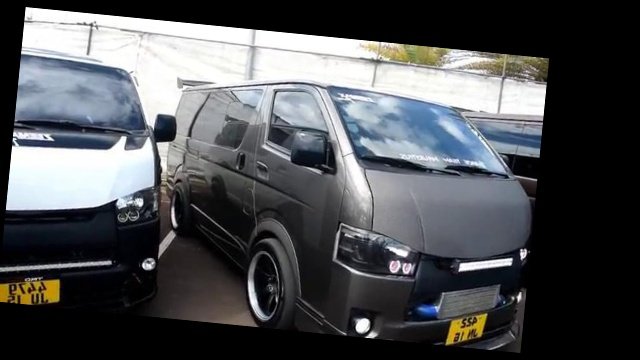van: (146, 67, 543, 351)
